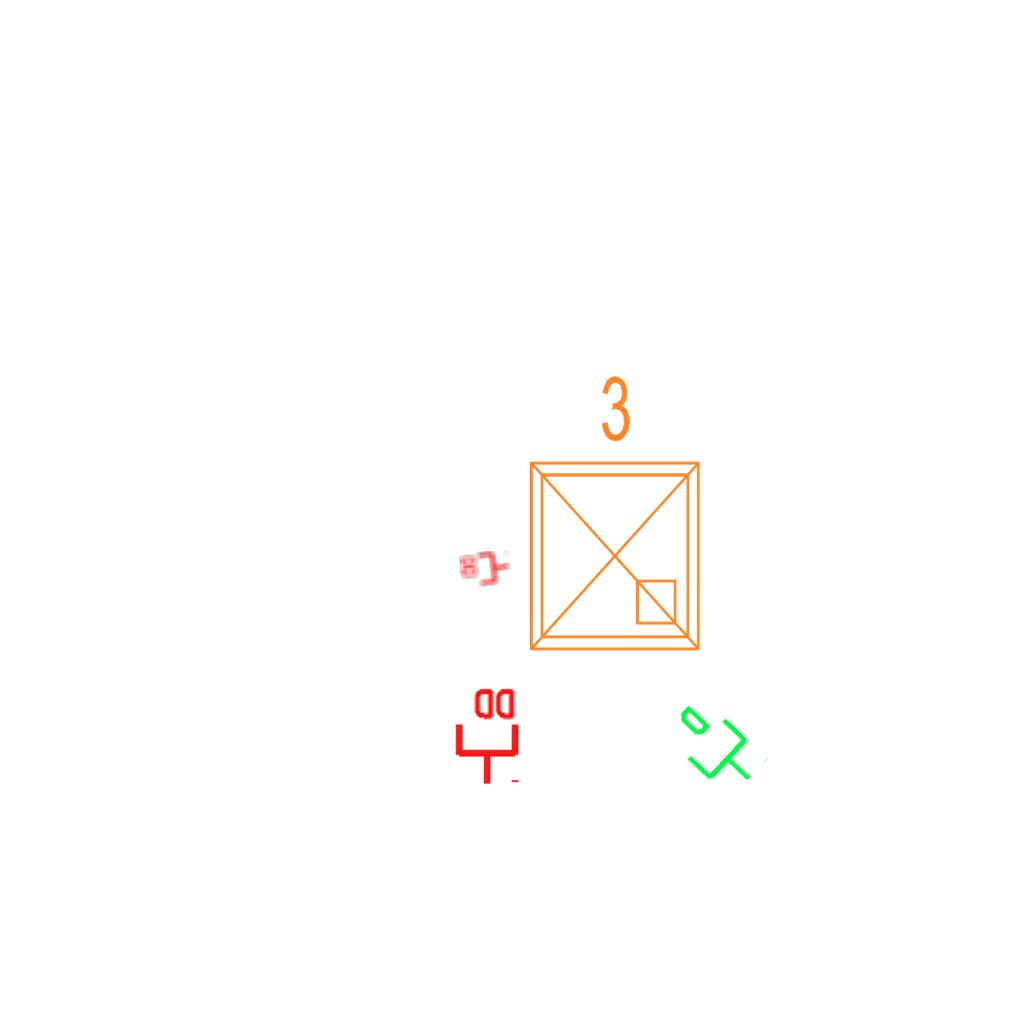Datenanschluss_einfach: (653, 688, 774, 808)
Datenanschluss_zweifach: (451, 684, 520, 787), (457, 549, 513, 590)
Einbaudownlights_LED_Konferenzraeume: (507, 365, 715, 665)
